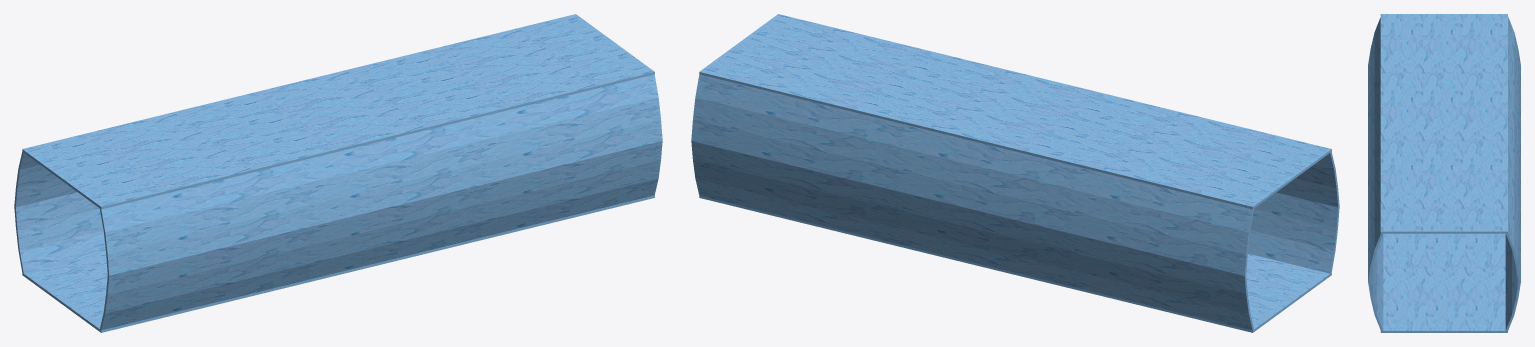
File: Ice Tunnel Penguin Game Tunnel.fbx
3 renders of one model, left to right at view 1: azimuth 30°, elevation 25°; view 2: azimuth 150°, elevation 25°; view 3: azimuth 270°, elevation 25°, orthographic. The views are drawn at different scales.
Visible parts, largest first — view 1: Tunnel Roof; view 2: Tunnel Roof; view 3: Tunnel Roof.
Boxes of the visible parts, bbox=[...] form: Tunnel Roof: bbox=[14, 14, 662, 332]; Tunnel Roof: bbox=[691, 14, 1339, 332]; Tunnel Roof: bbox=[1368, 14, 1520, 332].
Bounding box in the file's own units: 3991 × 868 × 1185.
